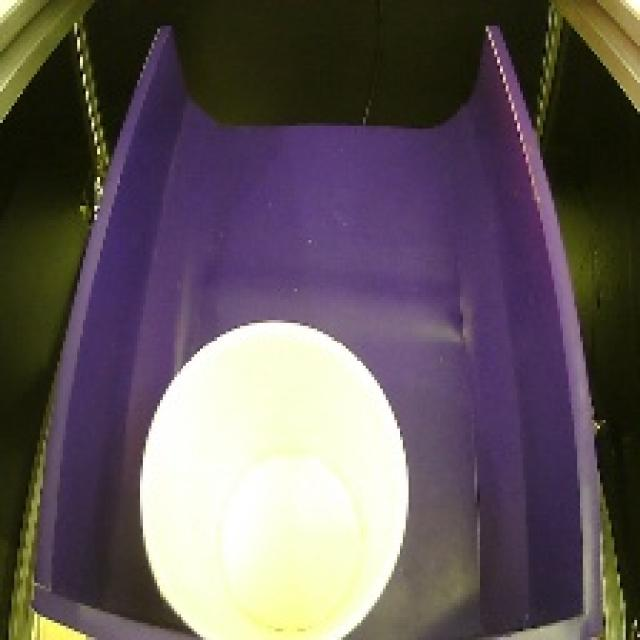cups: (127, 305, 423, 640)
